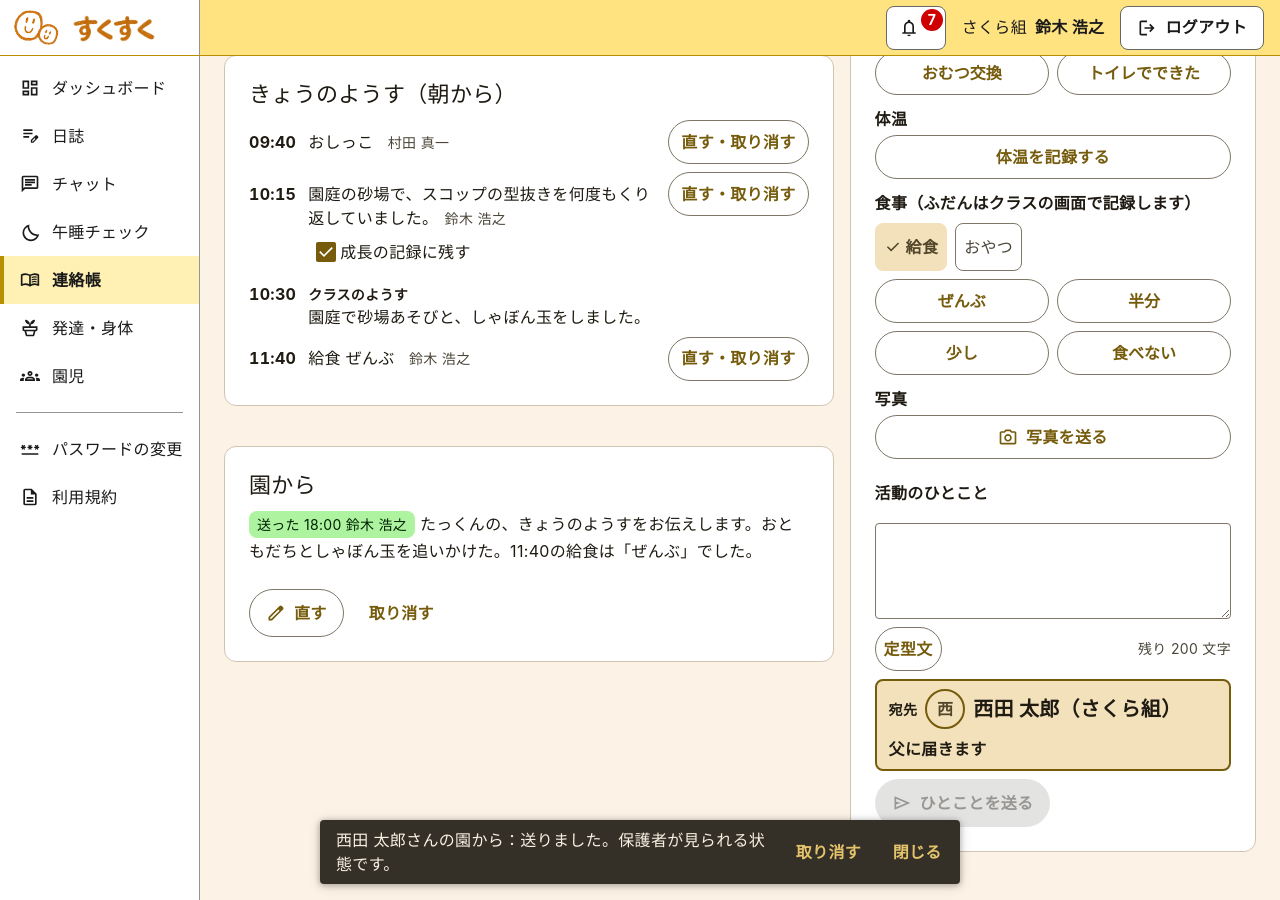
Scenario: 連絡帳（園児）画面：AI の下書き › 失敗したら応答の文をパネルに出し、入力欄の文は残す。上限に達したら上限の文を出す
(page scrolled)
In the text box labelled "活動のひとこと": (1053, 571) 875,523 -> 1231,619, type "砂場で遊びました。"
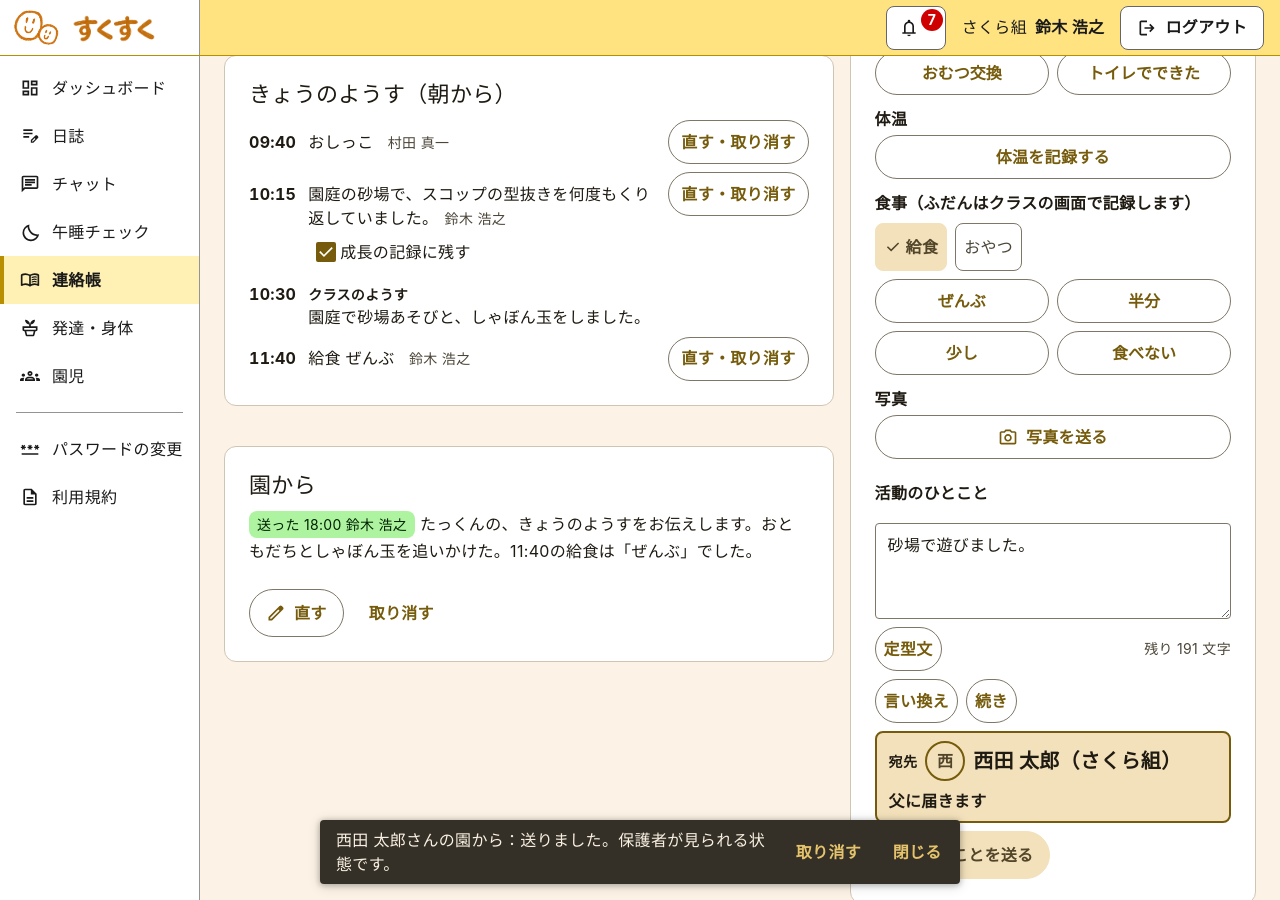
Click the button "言い換え": (916, 701) 875,679 -> 958,723
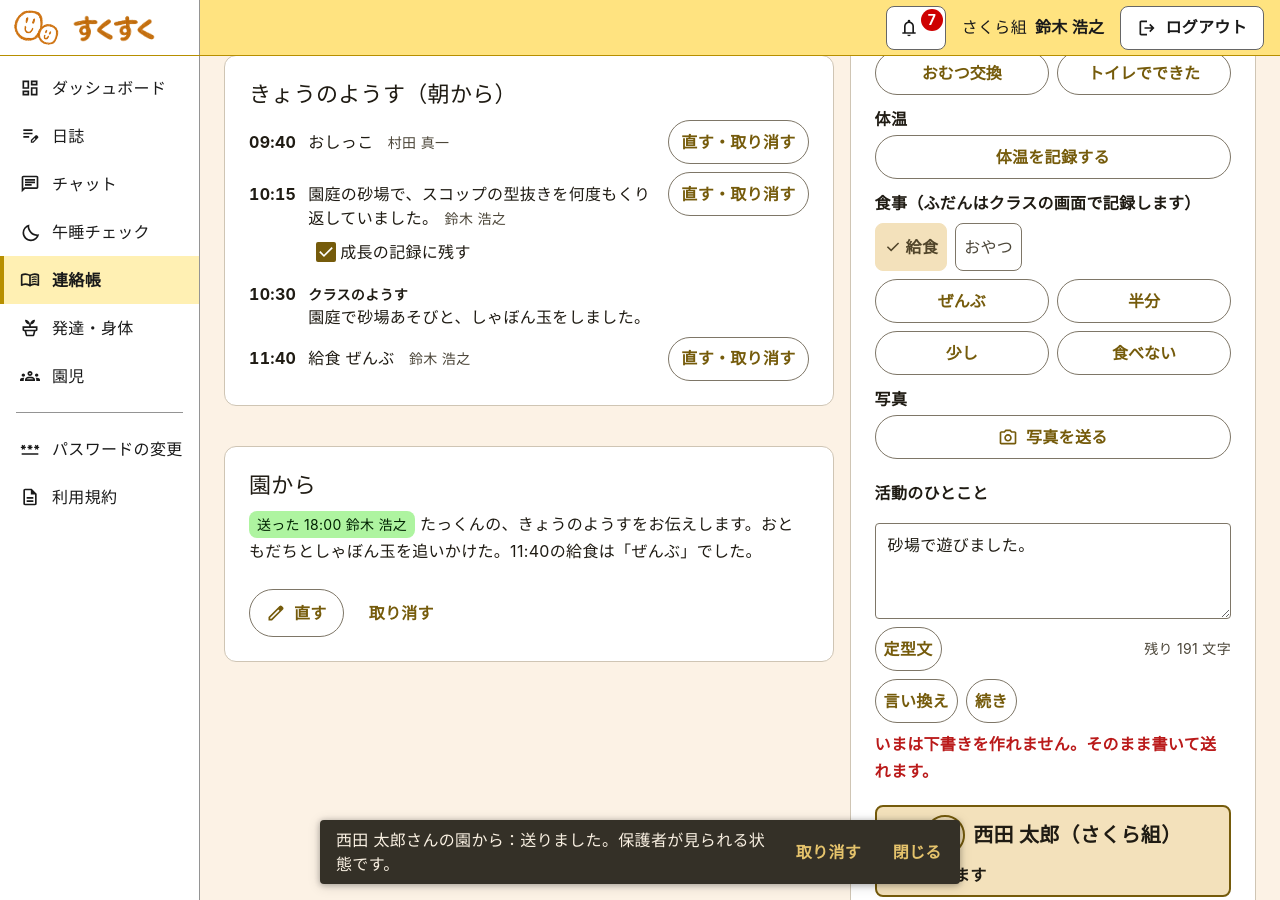
Now the text "いまは下書きを作れません。そのまま書いて送れます。" is shown, box 875,731 -> 1231,785
Click the button "続き": (991, 701) 966,679 -> 1016,723
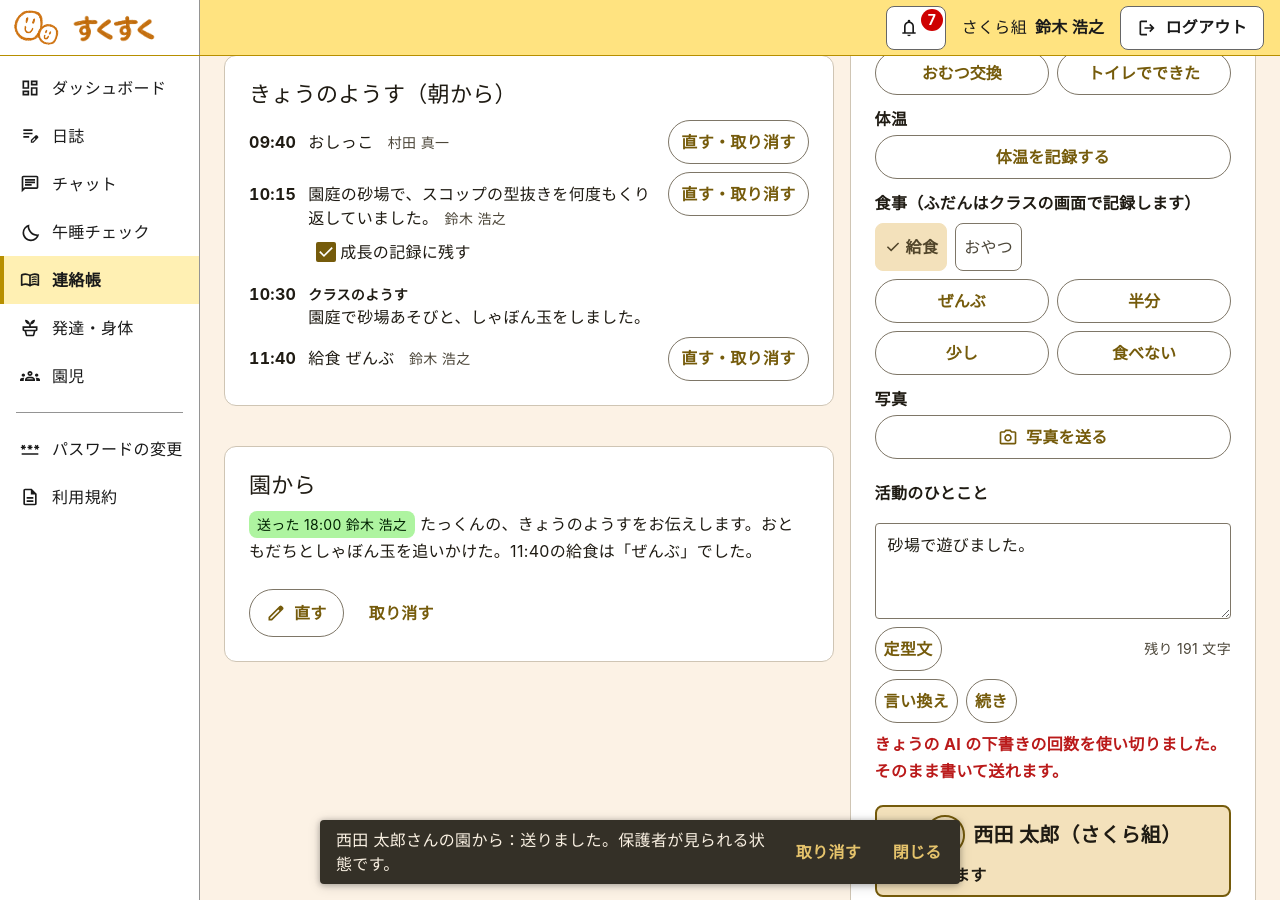
Now the button "言い換え" is shown, box 875,679 -> 958,723
Now the text "きょうの AI の下書きの回数を使い切りました。そのまま書いて送れます。" is shown, box 875,731 -> 1231,785
